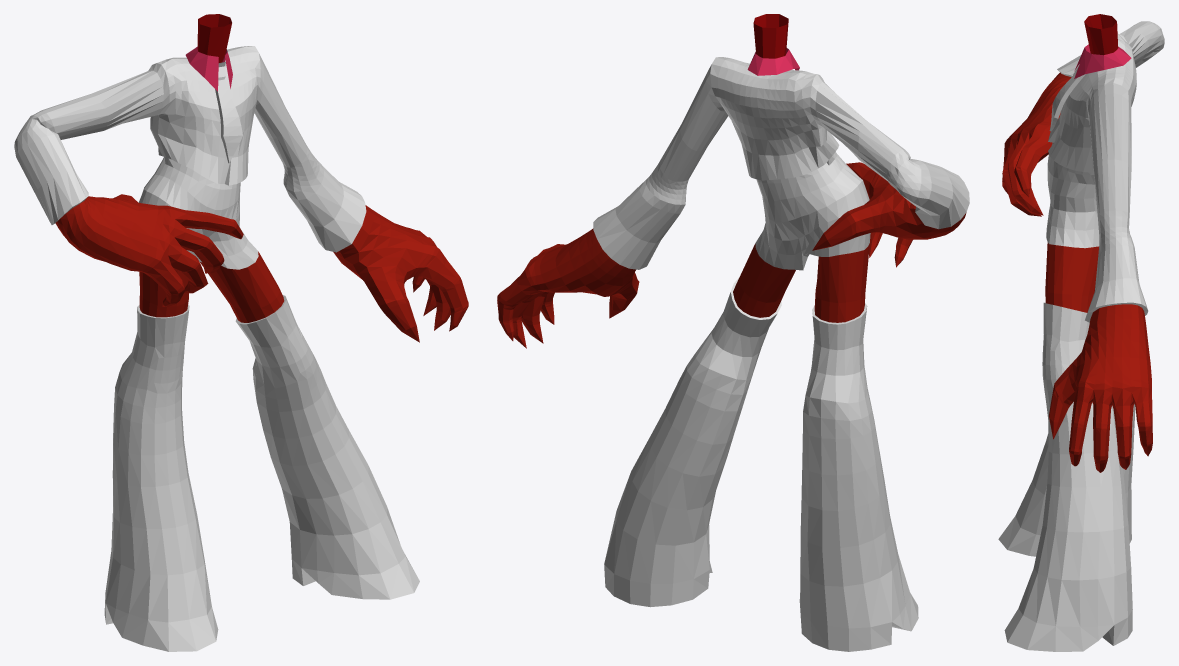
The model's file is SM_Player_Outfit_01_Skin.fbx.
The picture shows the model from 3 angles, left to right: view 1: azimuth 30°, elevation 25°; view 2: azimuth 150°, elevation 25°; view 3: azimuth 270°, elevation 25°; orthographic projection. The views are drawn at different scales.
Visible parts, largest first — view 1: SM_Outfit_01; view 2: SM_Outfit_01; view 3: SM_Outfit_01.
Boxes of the visible parts, x1,y1,x2,y2 form: SM_Outfit_01: (14,14,468,651); SM_Outfit_01: (497,14,969,651); SM_Outfit_01: (998,14,1164,651).
Size of the model in its own units: 75.19 by 98.34 by 26.75.
